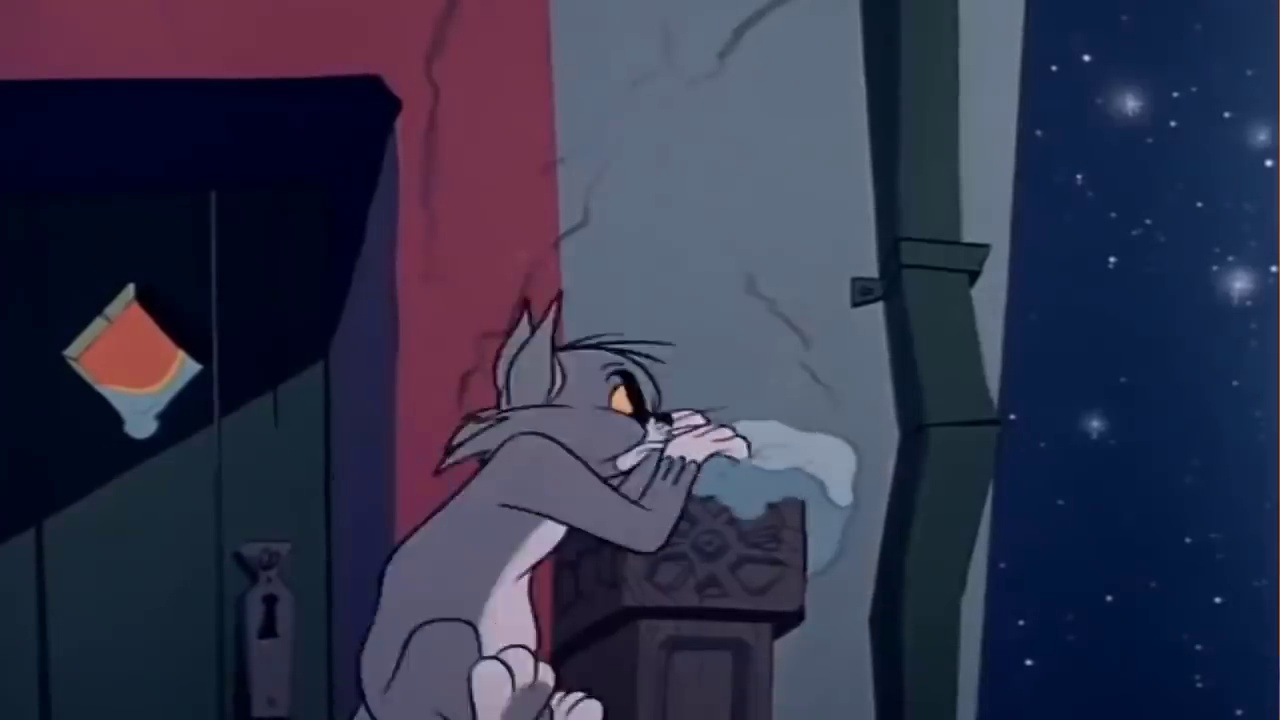face: (594, 358, 672, 477)
